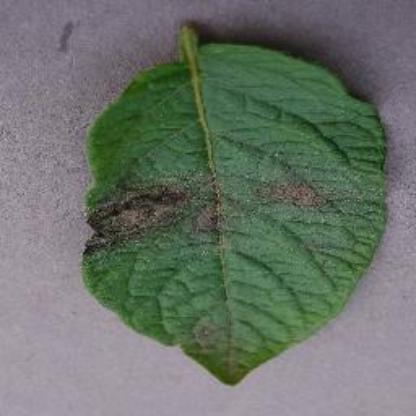Late-Blight: (78, 23, 392, 392)
